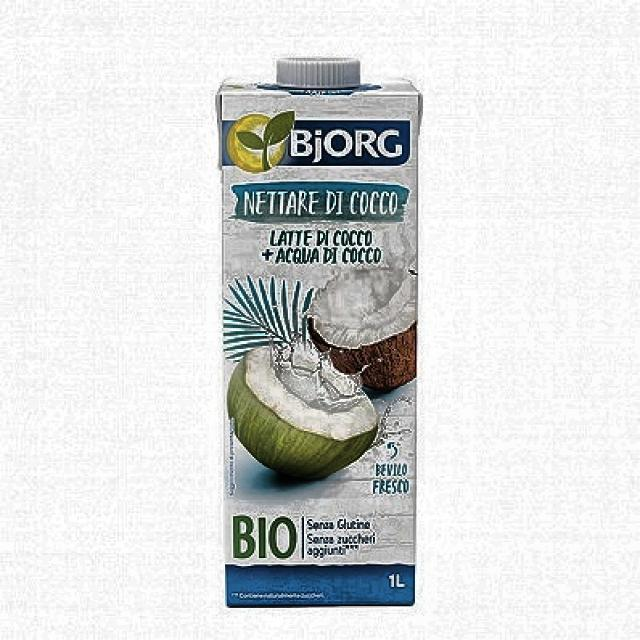cardboard: (216, 58, 420, 606)
